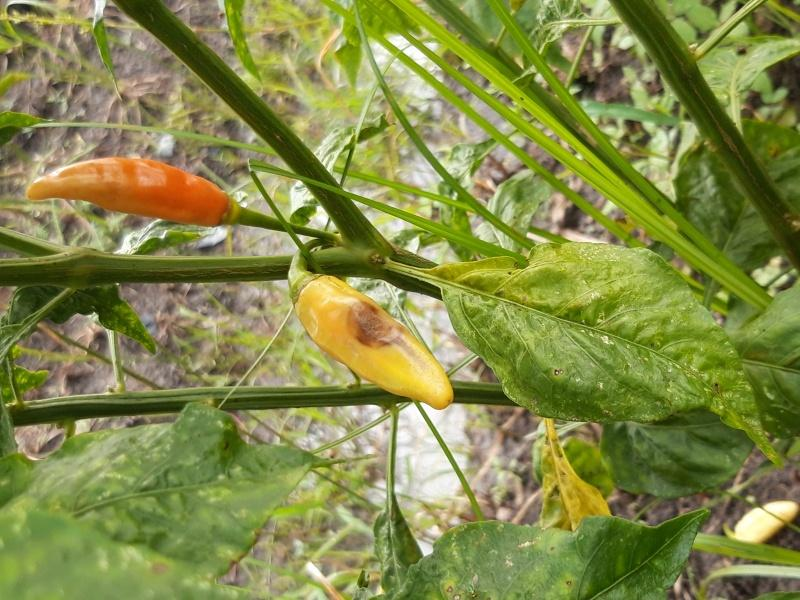antraknosa: (288, 273, 455, 410)
cabai_normal: (26, 156, 230, 232)
